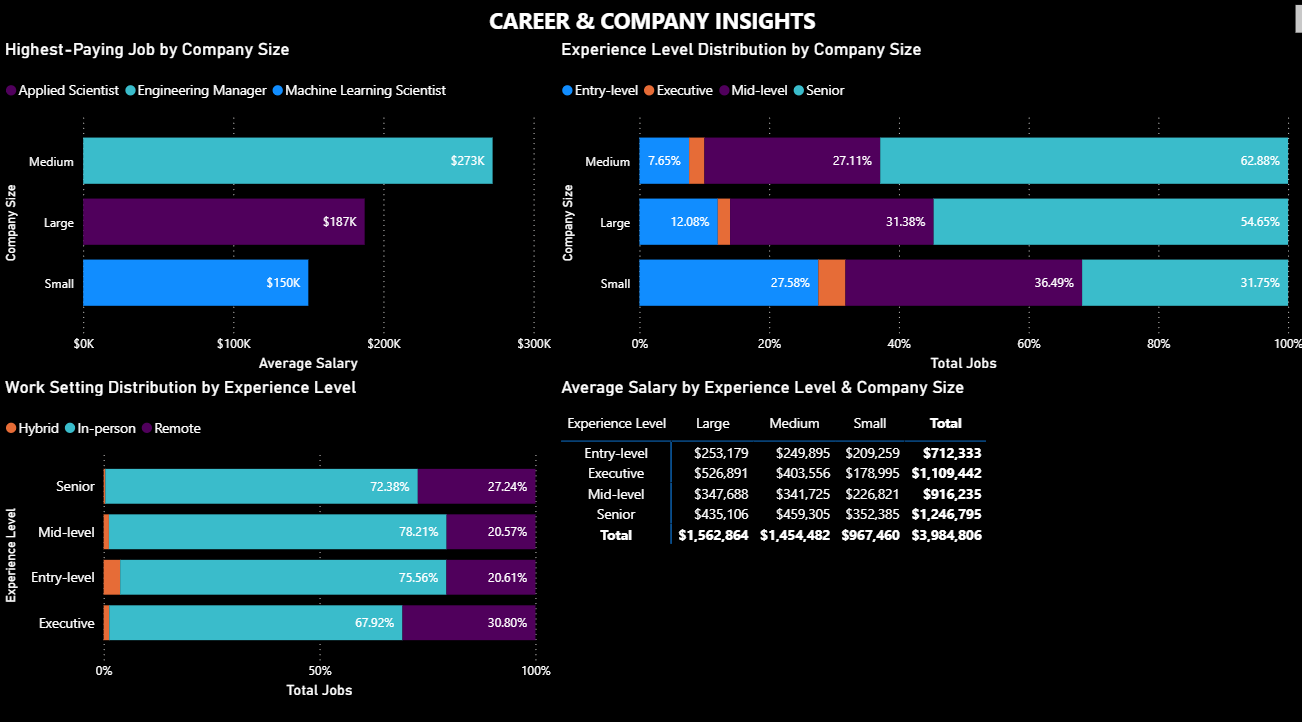

The dashboard page shown, as its layout file describes it:
{"tool":"powerbi","page":{"name":"Career & Company Insights","canvas":[1280,720],"ordinal":1},"visuals":[{"type":"textbox","box":[9.8,0,1270.5,37.9],"z":0},{"type":"barChart","title":"Highest-Paying Job by Company Size","fields":{"Category":["salary_intelligence_project vw_highest_paying_jobs.company_size"],"Y":["Sum(salary_intelligence_project vw_highest_paying_jobs.avg_salary)"],"Series":["salary_intelligence_project vw_highest_paying_jobs.job_title"]},"box":[0,37.9,544.2,330.2],"z":1000},{"type":"hundredPercentStackedBarChart","title":"Experience Level Distribution by Company Size","fields":{"Category":["salary_intelligence_project vw_experience_company_size.company_size"],"Series":["salary_intelligence_project vw_experience_company_size.experience_level"],"Y":["Sum(salary_intelligence_project vw_experience_company_size.total_jobs)"]},"box":[544.2,37.9,736.1,330.2],"z":2000},{"type":"hundredPercentStackedBarChart","title":"Work Setting Distribution by Experience Level","fields":{"Category":["salary_intelligence_project vw_work_setting_by_experience.experience_level"],"Y":["Sum(salary_intelligence_project vw_work_setting_by_experience.total_jobs)"],"Series":["salary_intelligence_project vw_work_setting_by_experience.work_setting_standardized"]},"box":[0,368,544,320],"z":3000},{"type":"pivotTable","title":"Average Salary by Experience Level & Company Size","fields":{"Rows":["salary_intelligence_project vw_salary_by_experience_company_size_work_setting.experience_level"],"Columns":["salary_intelligence_project vw_salary_by_experience_company_size_work_setting.company_size"],"Values":["Sum(salary_intelligence_project vw_salary_by_experience_company_size_work_setting.avg_salary)"]},"box":[543.9,368.2,543.9,320.4],"z":4000}]}

Visuals, with their boxes in screenshot pixels (x1, y1, x2, y2), scaled from the page's 1280x720 canvas onto the 1302x722 screenshot:
textbox: region(10, 0, 1301, 38)
"Highest-Paying Job by Company Size" barChart: region(0, 38, 554, 369)
"Experience Level Distribution by Company Size" hundredPercentStackedBarChart: region(554, 38, 1301, 369)
"Work Setting Distribution by Experience Level" hundredPercentStackedBarChart: region(0, 369, 553, 690)
"Average Salary by Experience Level & Company Size" pivotTable: region(553, 369, 1106, 691)
